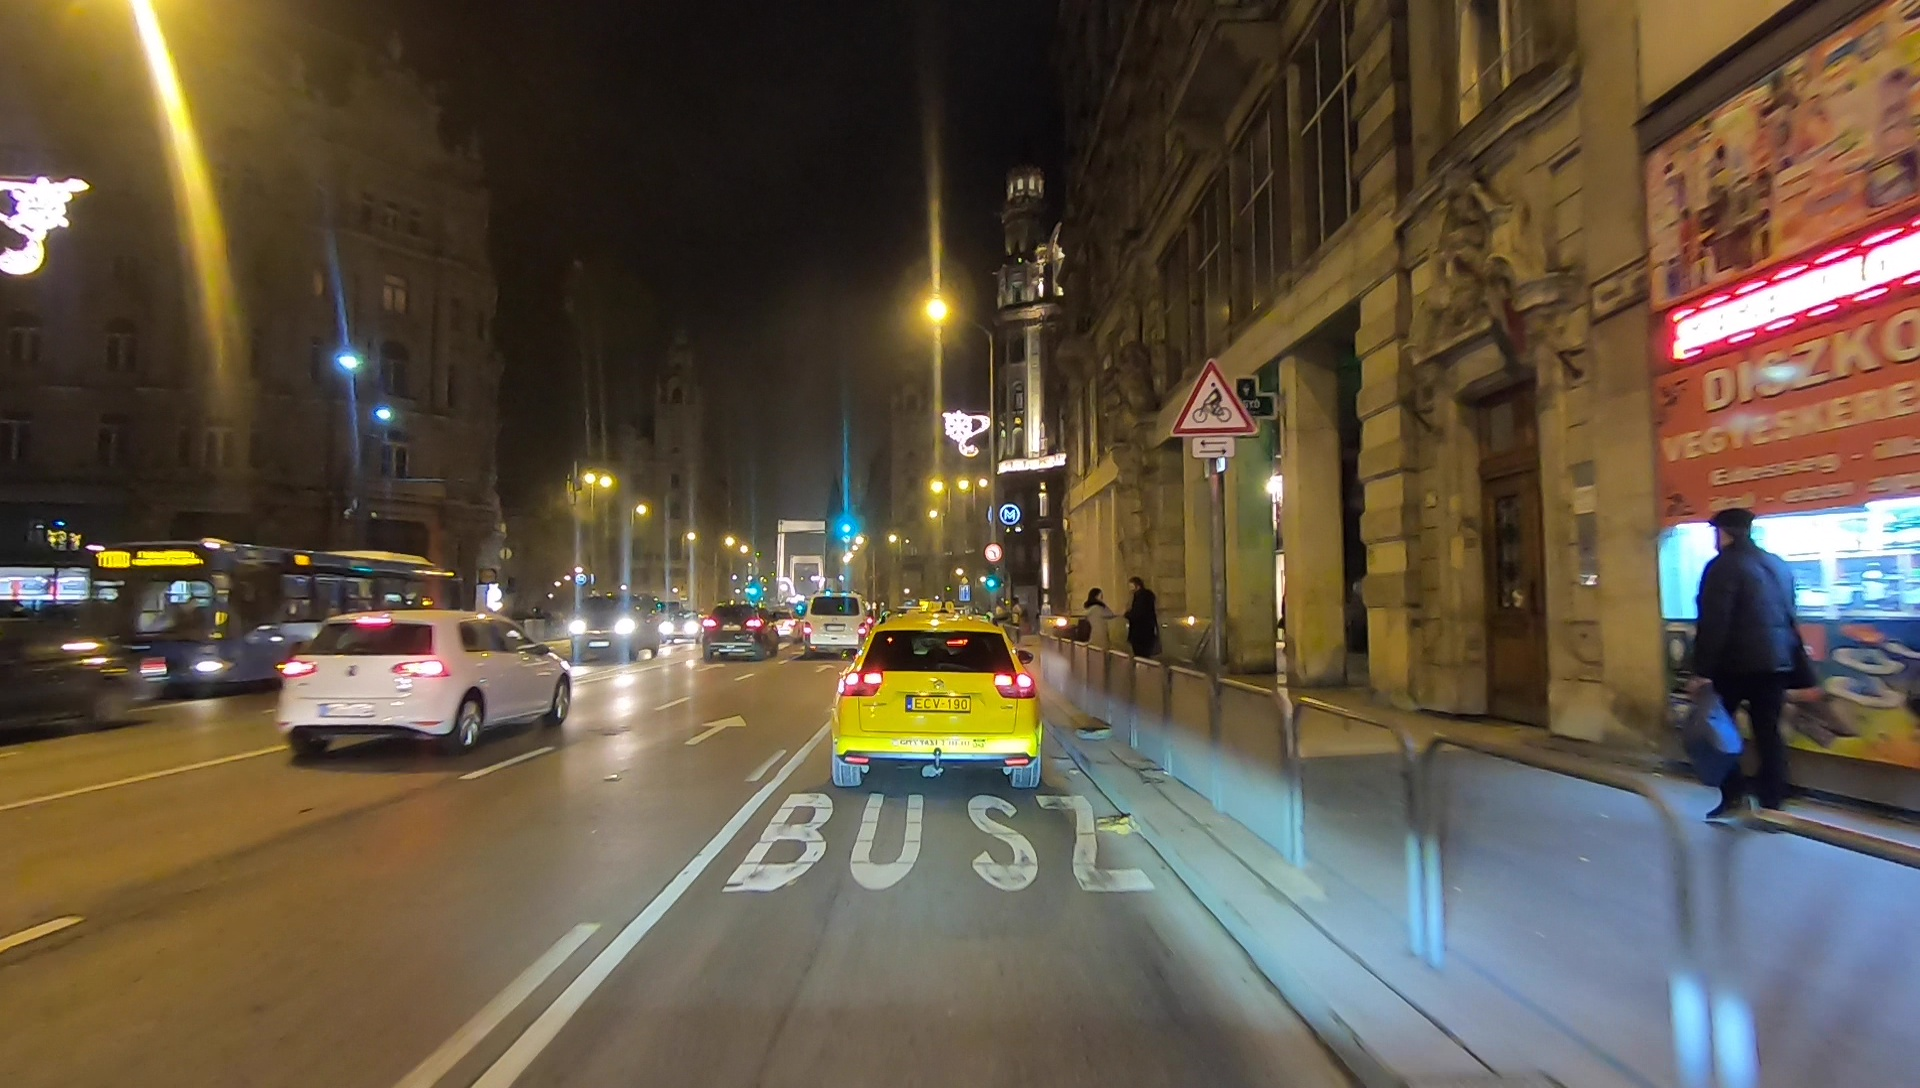person: (1680, 510, 1814, 834), (1125, 574, 1160, 674), (1082, 589, 1112, 691), (1011, 598, 1022, 643)
